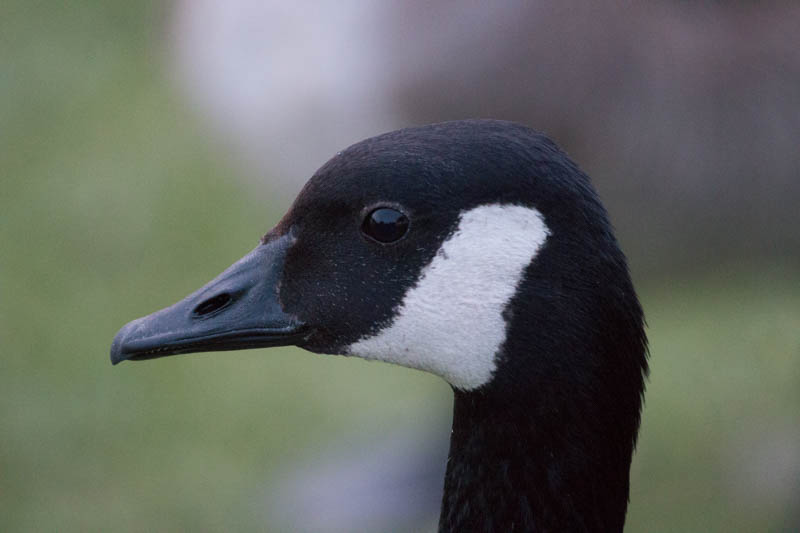goose-head: (110, 121, 646, 395)
